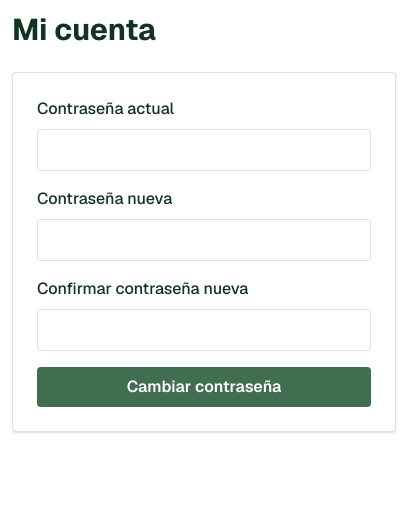
Test: AccountPage › muestra el error del servidor si la contraseña actual es incorrecta
Type "wrong" into the password field labelled "Contraseña actual" at (204, 150), box [37,129,371,171]
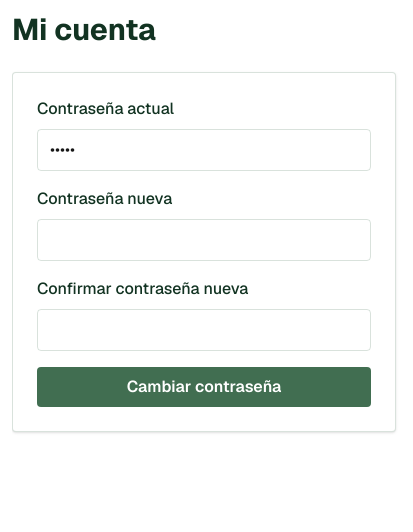
Type "newpassword123" into the password field labelled "Contraseña nueva" at (204, 240), box [37,219,371,261]
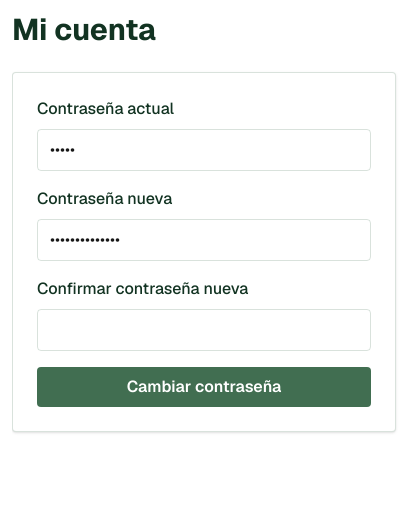
Type "newpassword123" into the password field labelled "Confirmar contraseña nueva" at (204, 330), box [37,309,371,351]
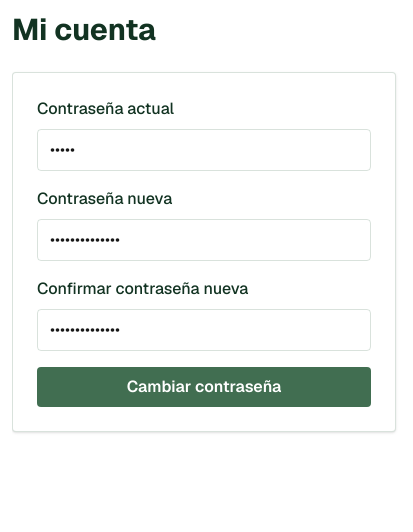
Click the button "Cambiar contraseña" at (204, 387), box [37,367,371,407]
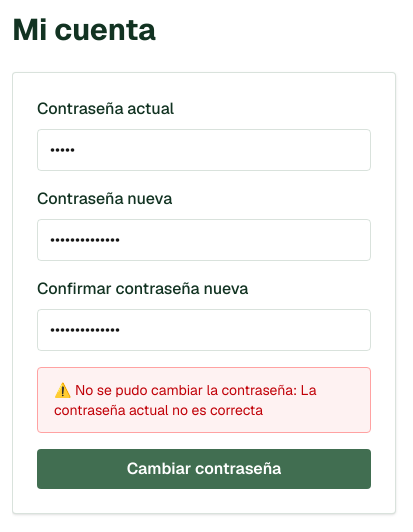
Result: the message shows "no es correcta" at [54,381,316,419]
